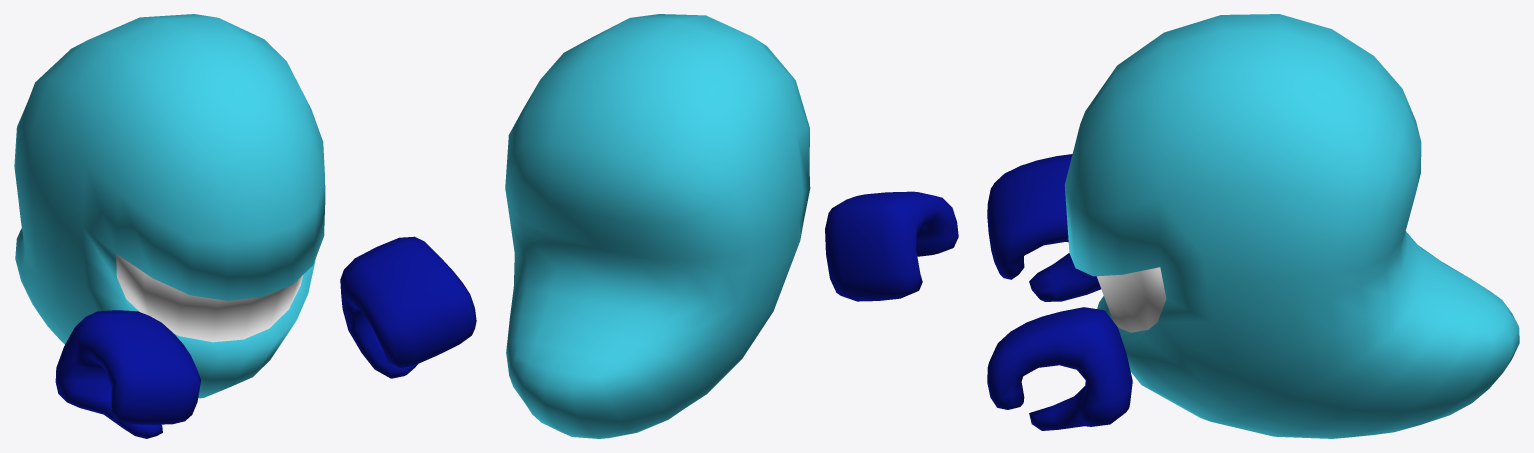
File: ghostColor 1.fbx
3 views of the same model, side by side, from view 1: azimuth 30°, elevation 25°; view 2: azimuth 150°, elevation 25°; view 3: azimuth 270°, elevation 25° (orthographic). The views are drawn at different scales.
Visible parts, largest first — view 1: arm.002; view 2: arm.002; view 3: arm.002.
Boxes of the visible parts, x1,y1,x2,y2 form: arm.002: (14, 14, 476, 438); arm.002: (505, 14, 958, 438); arm.002: (987, 14, 1519, 438).
Size of the model in its own units: 518 by 480 by 583.
